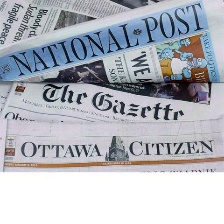news_paper: (0, 0, 224, 172)
